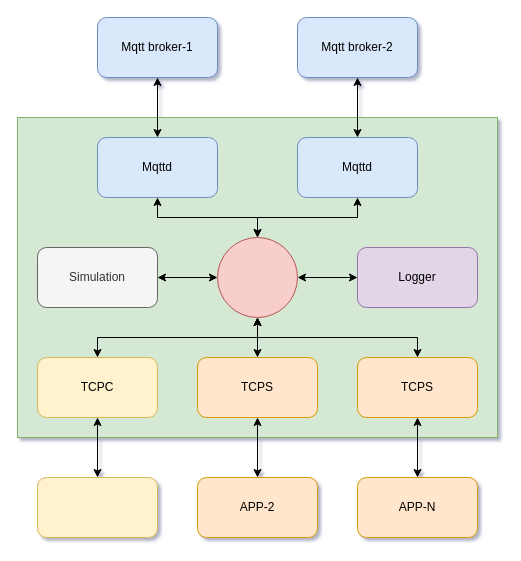
This 521x561 diagram has some shape labels left out. Each missing label, with the centre of its shape:
APP-1: point 97,507
NcpIO: point 257,277
